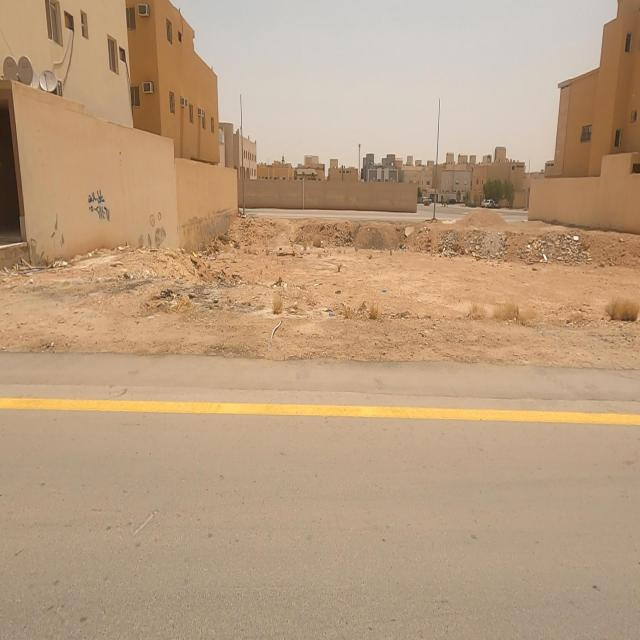Graffiti: (137, 211, 167, 247), (88, 190, 110, 223)
